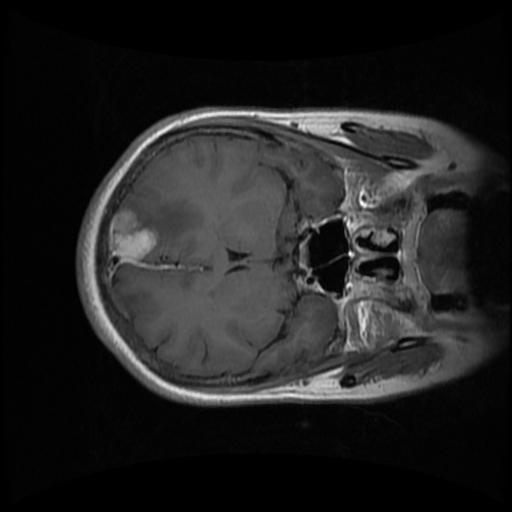meningioma: (109, 210, 155, 262)
